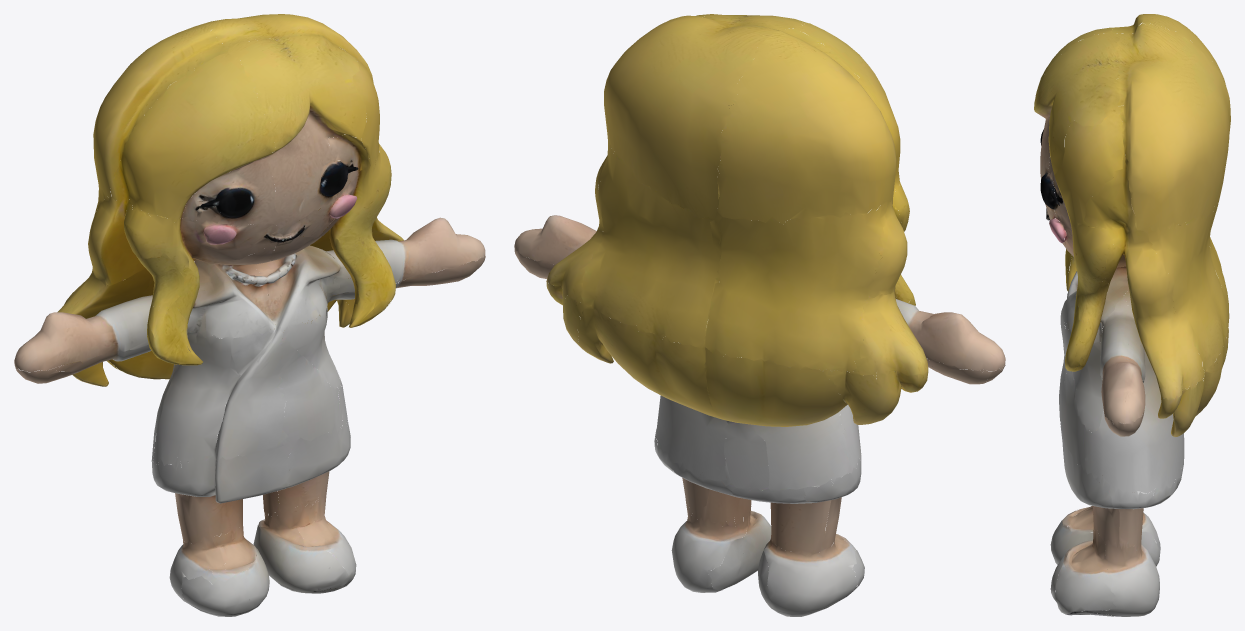
File: maia.glb
3 renders of one model, left to right at view 1: azimuth 30°, elevation 25°; view 2: azimuth 150°, elevation 25°; view 3: azimuth 270°, elevation 25°, orthographic. The views are drawn at different scales.
Visible parts, largest first — view 1: tripo_node_2be52769-d945-46a5-9a8c-dce33d9b753e; view 2: tripo_node_2be52769-d945-46a5-9a8c-dce33d9b753e; view 3: tripo_node_2be52769-d945-46a5-9a8c-dce33d9b753e.
Part boxes in pixels (<box>): tripo_node_2be52769-d945-46a5-9a8c-dce33d9b753e: <box>14,14,485,616</box>; tripo_node_2be52769-d945-46a5-9a8c-dce33d9b753e: <box>514,14,1005,616</box>; tripo_node_2be52769-d945-46a5-9a8c-dce33d9b753e: <box>1034,14,1230,616</box>.
Bounding box in the file's own units: 0.9027 × 1.03 × 0.3314.
1 material, 1 textured.
